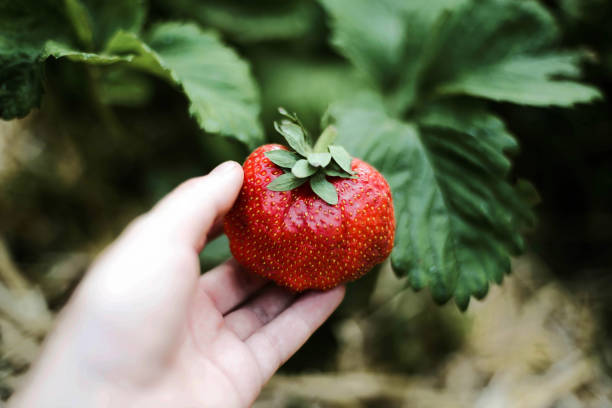Fresa: (224, 138, 399, 294)
